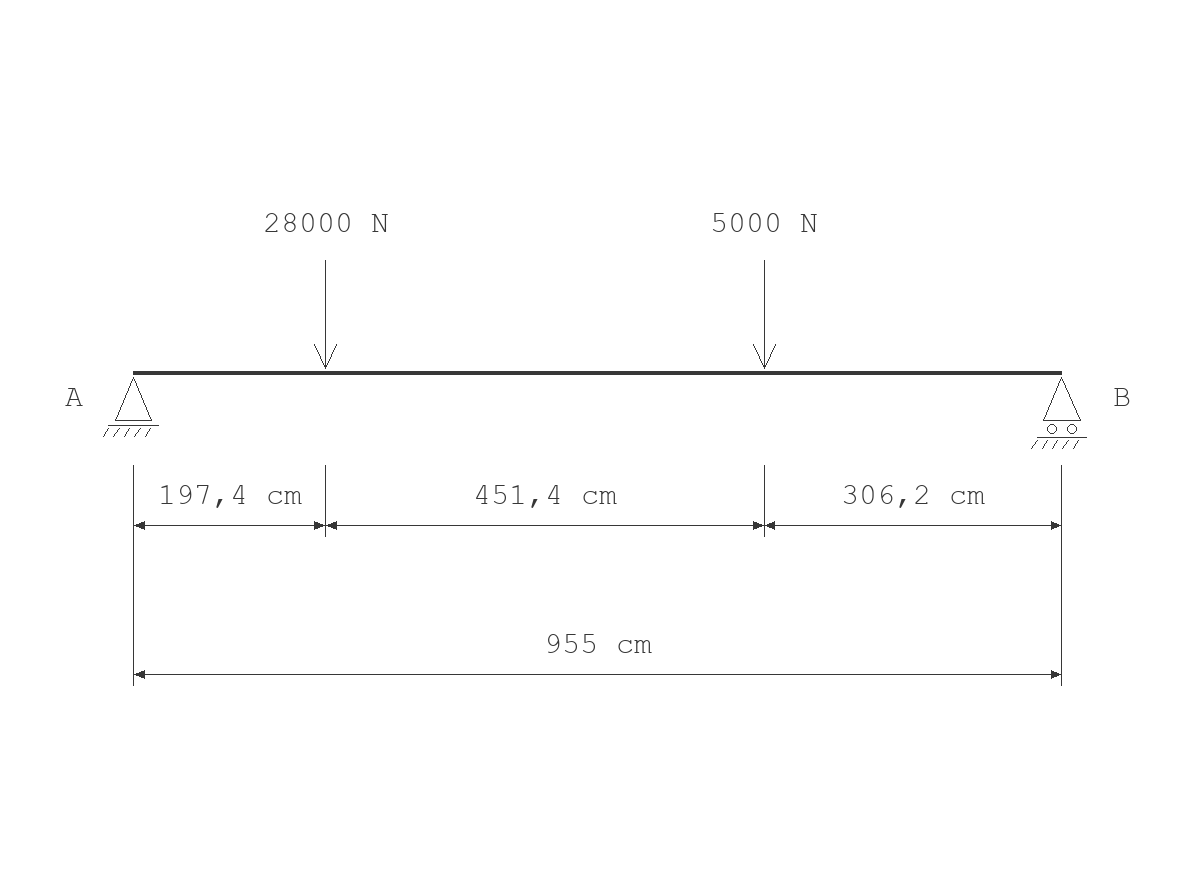pin_support: (103, 377, 159, 437)
point_load: (314, 260, 337, 369), (753, 260, 776, 369)
roller_support: (1031, 377, 1087, 449)
